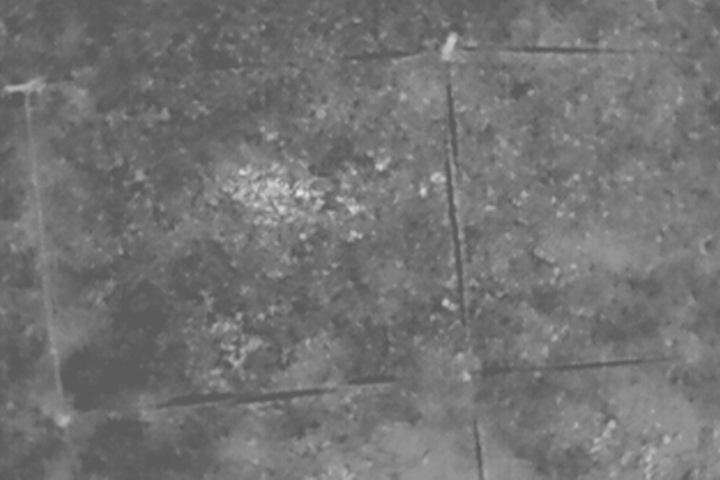landmine: (243, 158, 330, 213)
